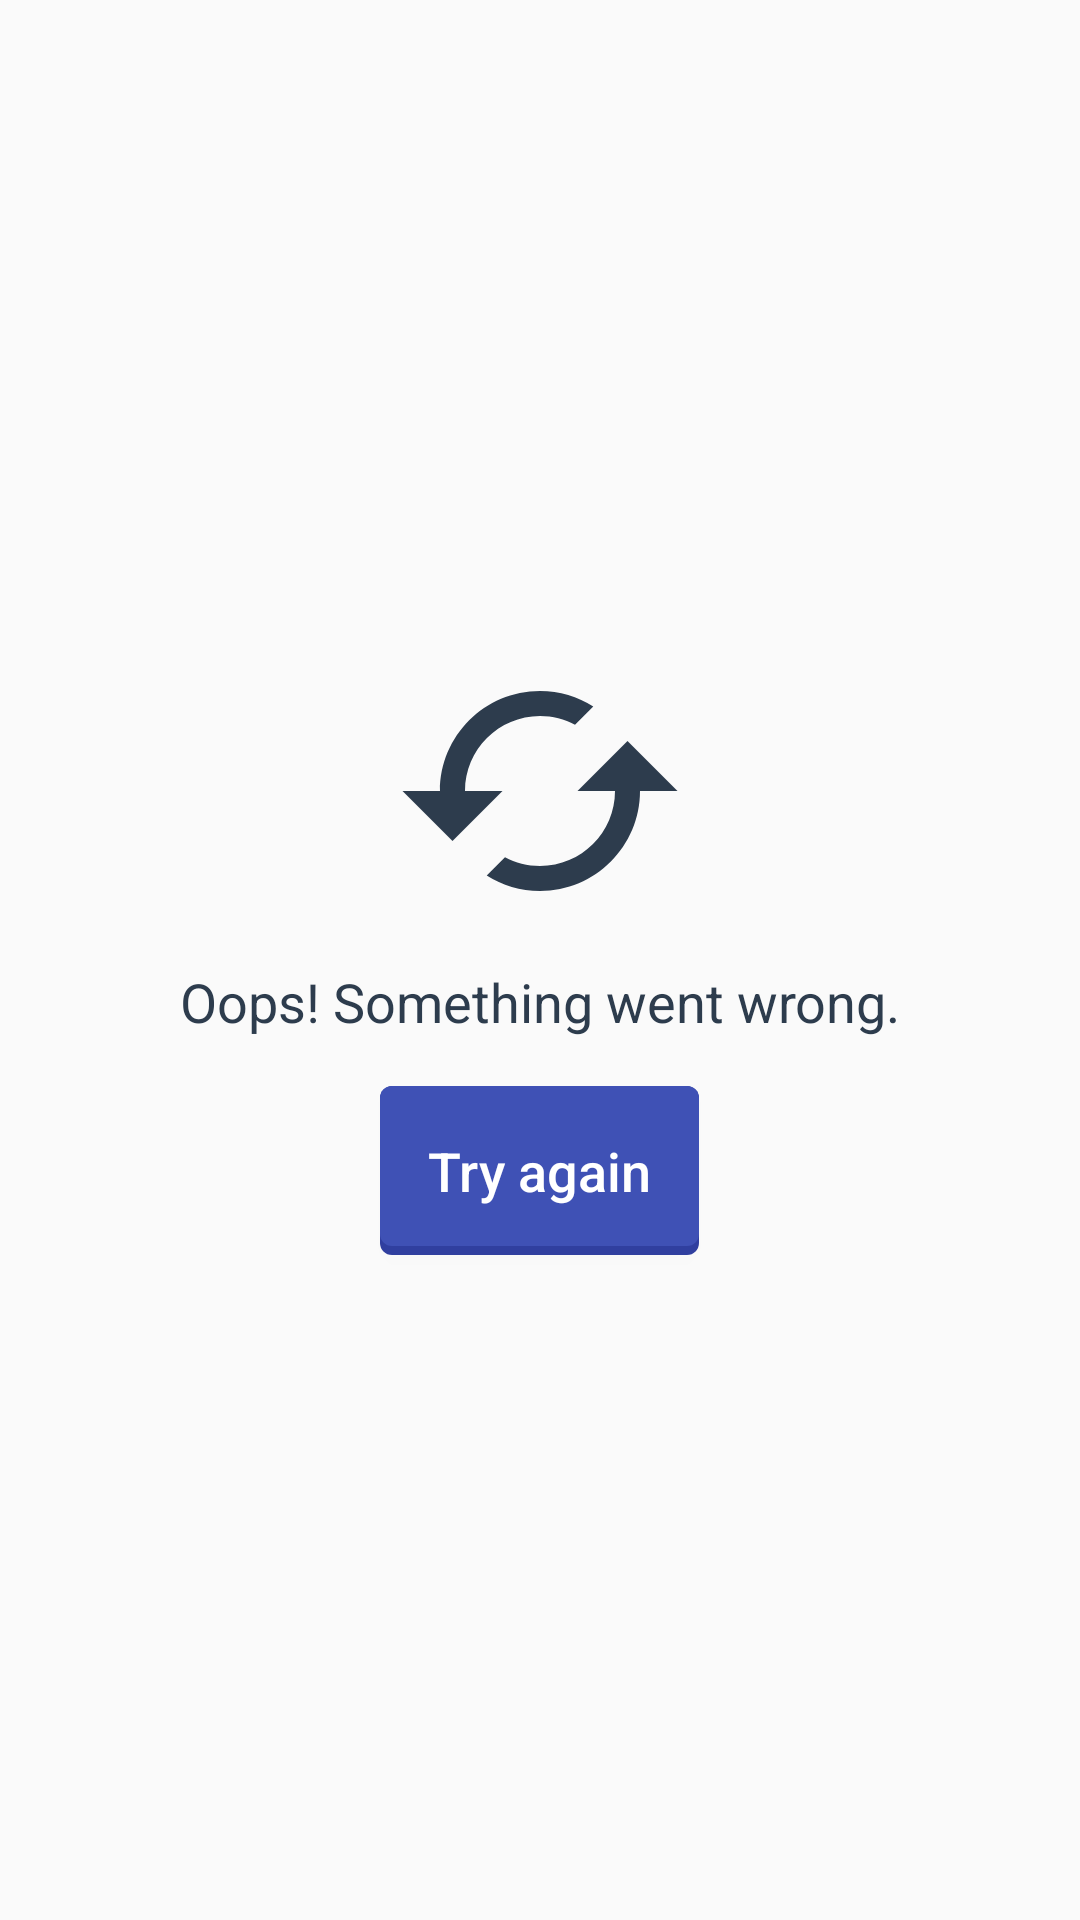

Screen size 1080*1920. Icon name, then its box in pixels as detection(x1, y1, x2, y2):
retry: detection(402, 691, 678, 891)
